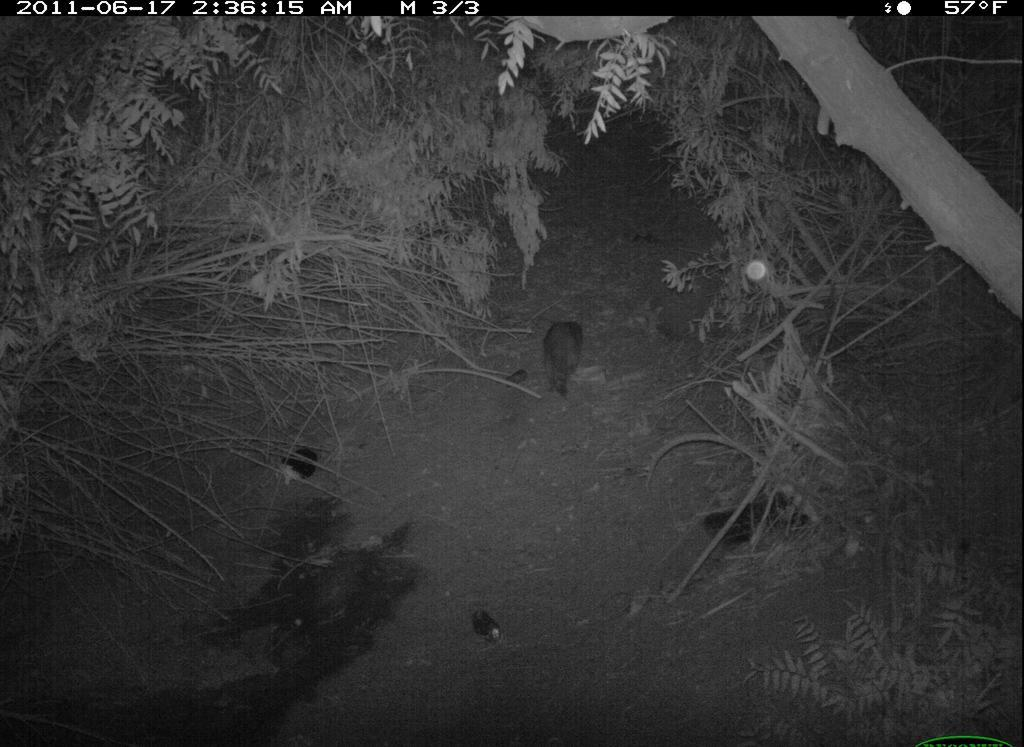raccoon: (539, 315, 593, 402)
